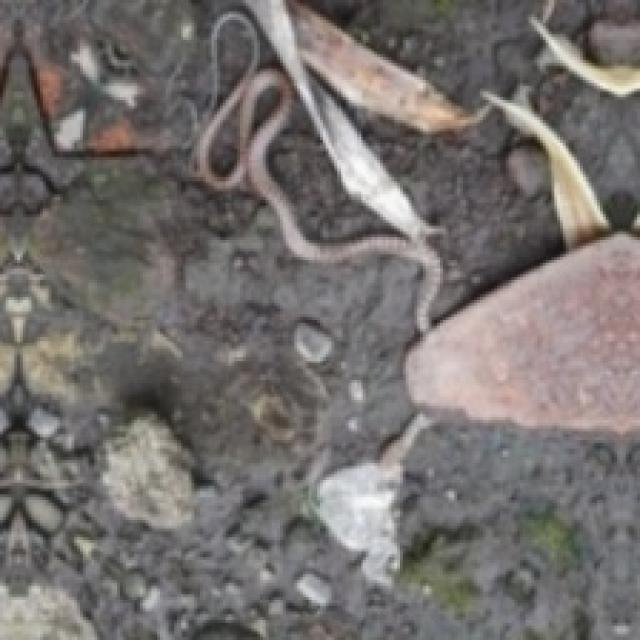paradise tree snake: (194, 0, 451, 329), (263, 71, 403, 243)
